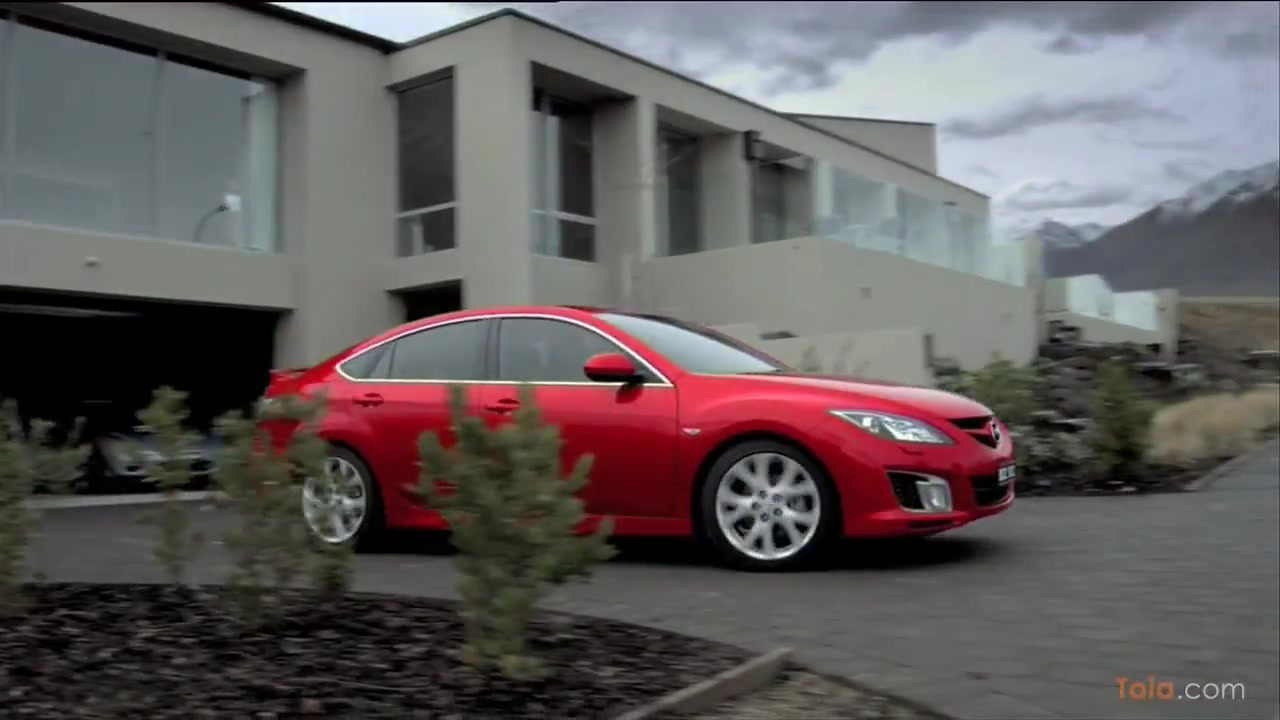car: (249, 303, 1018, 571)
